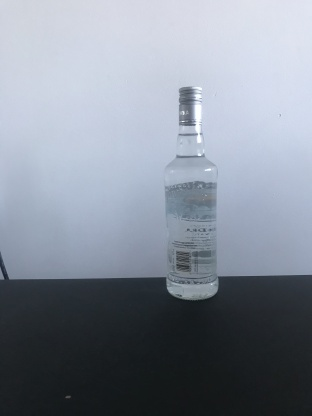nakretka: (177, 84, 204, 129), (177, 83, 203, 128)
